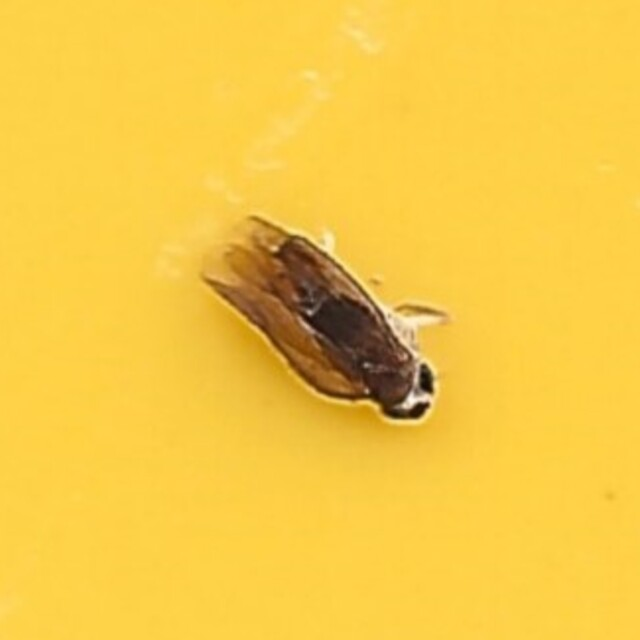Hemiptera: (197, 214, 443, 426)
